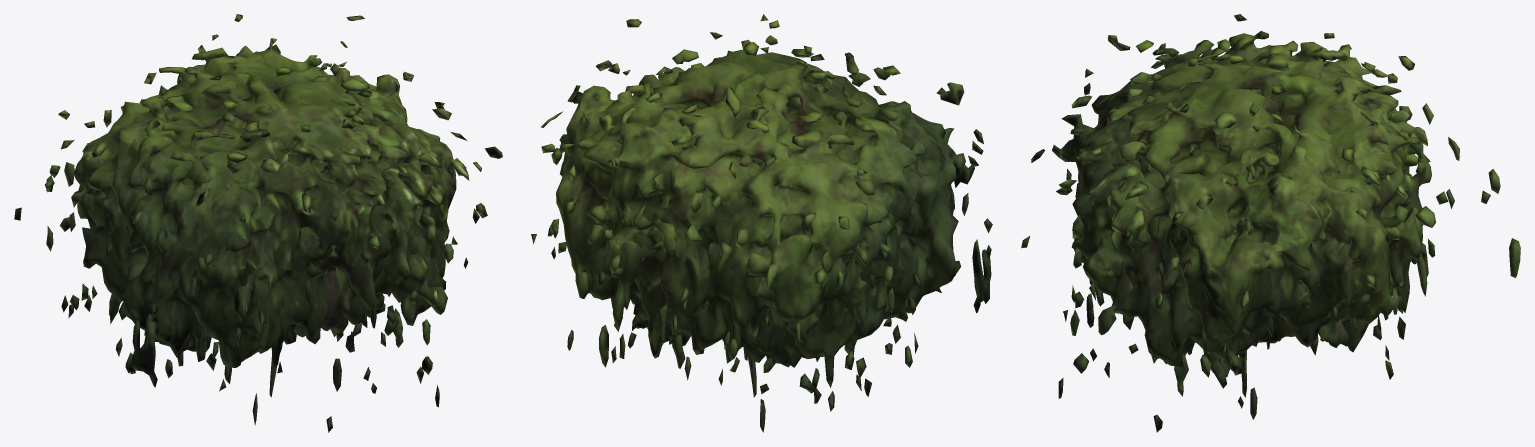
The model's file is AI_DroopingBush.fbx.
3 renders of one model, left to right at view 1: azimuth 30°, elevation 25°; view 2: azimuth 150°, elevation 25°; view 3: azimuth 270°, elevation 25°, orthographic. The views are drawn at different scales.
Parts seen in each view (by area): view 1: Mesh1; view 2: Mesh1; view 3: Mesh1.
Part boxes in pixels (x1=…): Mesh1: x1=14, y1=14, x2=502, y2=432; Mesh1: x1=531, y1=14, x2=992, y2=432; Mesh1: x1=1021, y1=14, x2=1520, y2=432.
Bounding box in the file's own units: 169 × 147 × 171.
Materials: 1 (1 with a texture image).
